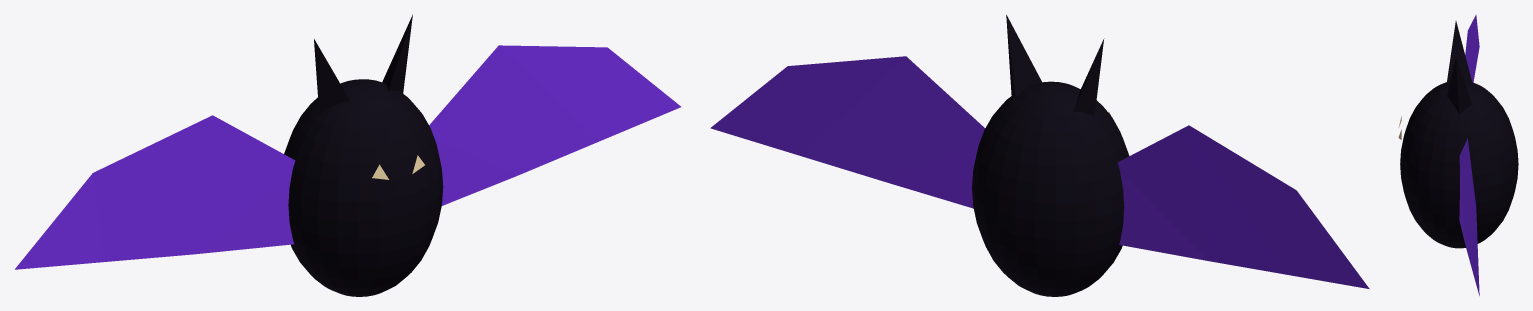
Rendered from 03_neon_bat.obj.
3 views of the same model, side by side, from view 1: azimuth 30°, elevation 25°; view 2: azimuth 150°, elevation 25°; view 3: azimuth 270°, elevation 25° (orthographic). The views are drawn at different scales.
Parts seen in each view (by area): view 1: Bat_Wing_Membranes, Bat_Body, Bat_Ears; view 2: Bat_Wing_Membranes, Bat_Body, Bat_Ears; view 3: Bat_Body, Bat_Wing_Membranes, Bat_Ears.
Boxes of the visible parts, x1=… form: Bat_Wing_Membranes: x1=15, y1=45, x2=680, y2=269; Bat_Body: x1=284, y1=79, x2=443, y2=296; Bat_Ears: x1=314, y1=14, x2=412, y2=113; Bat_Wing_Membranes: x1=710, y1=56, x2=1369, y2=289; Bat_Body: x1=972, y1=81, x2=1129, y2=296; Bat_Ears: x1=1006, y1=15, x2=1104, y2=115; Bat_Body: x1=1400, y1=80, x2=1518, y2=248; Bat_Wing_Membranes: x1=1459, y1=14, x2=1479, y2=295; Bat_Ears: x1=1447, y1=21, x2=1472, y2=114.
Size of the model in its own units: 3.5 by 1.34 by 0.71.
